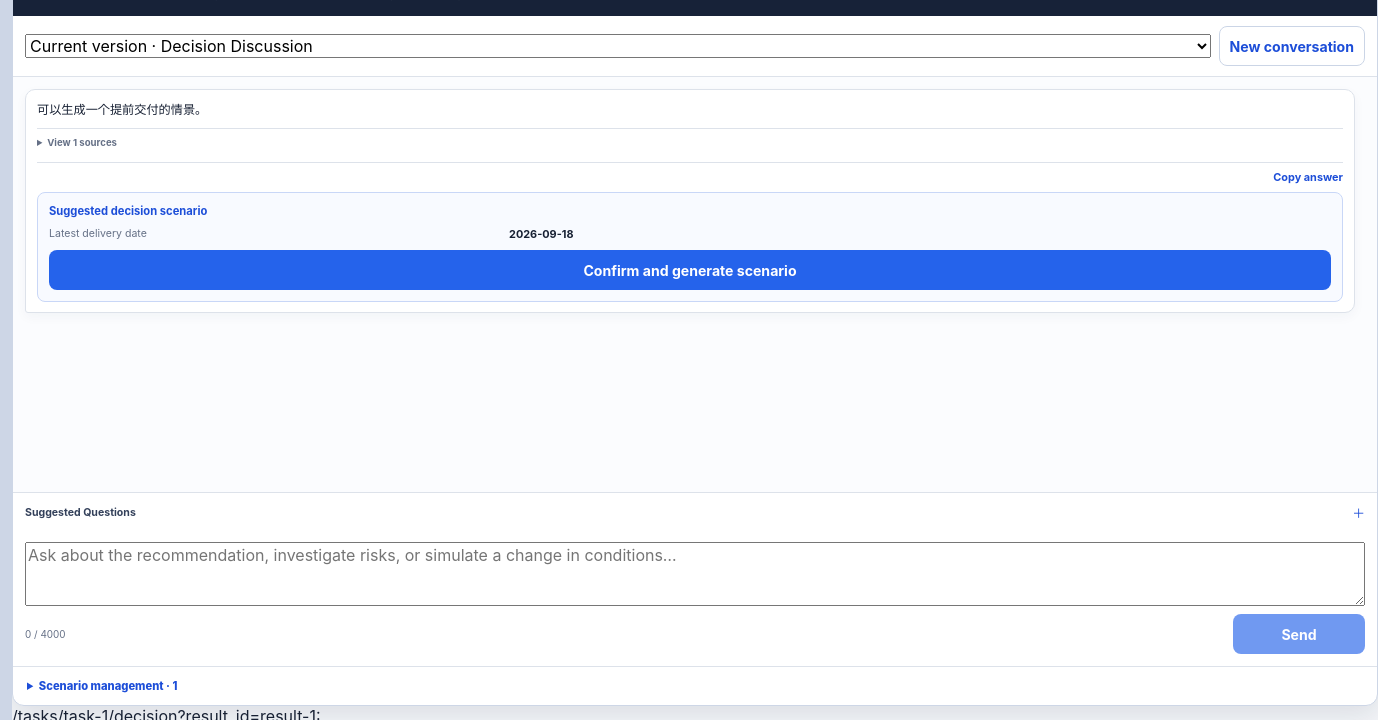
DecisionScenarioWorkspace › applying a scenario opens the latest decision route and clears the old result cache
Click the heading "Scenario management · 1".
click(108, 686)  # box [39,679,177,693]
(page scrolled)
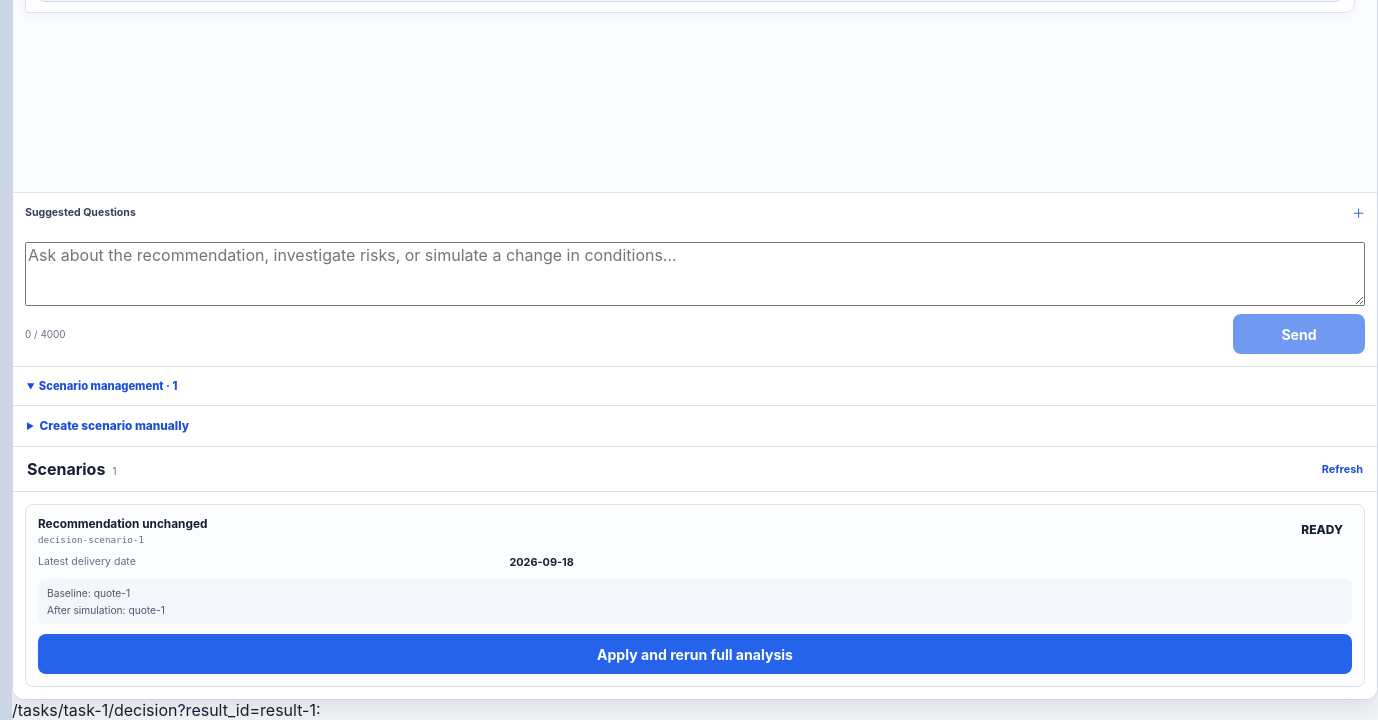
Click the button "Apply and rerun full analysis".
click(695, 654)  # box [38,634,1352,674]
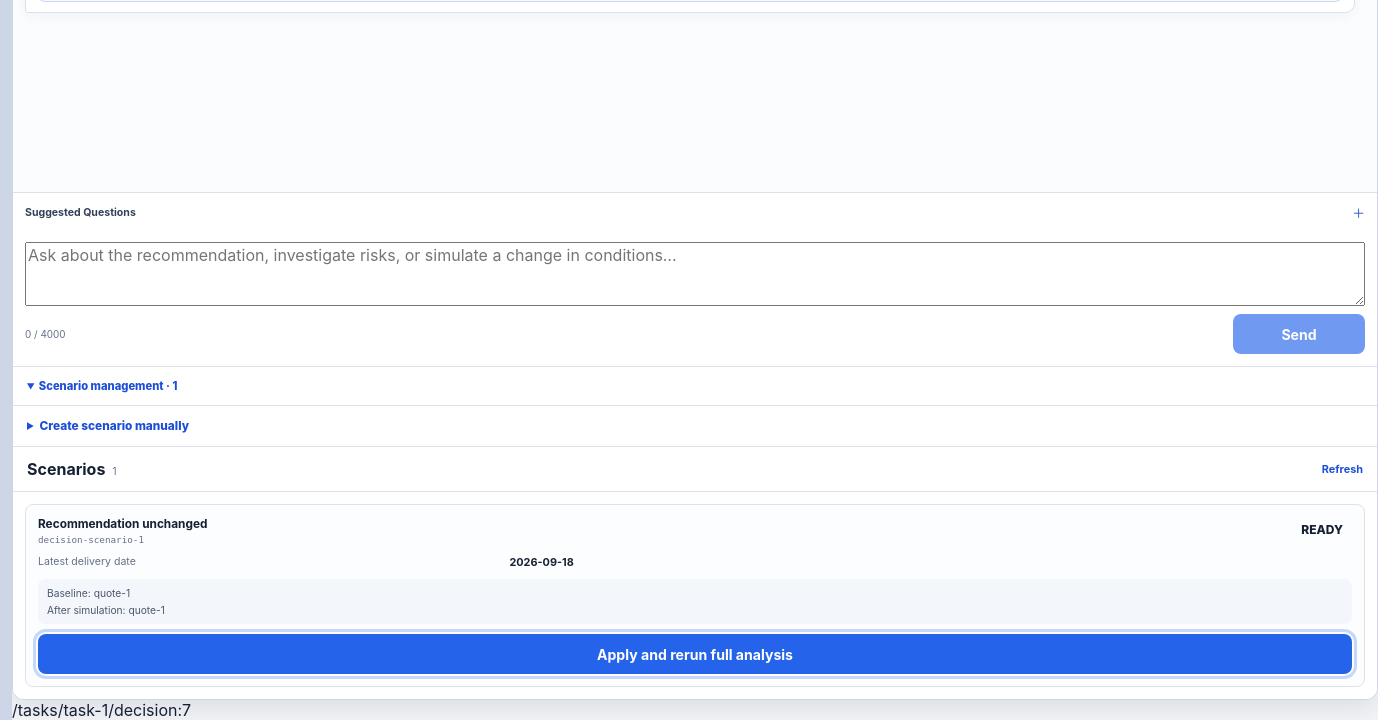
expect the text with test id "location" reads "/tasks/task-1/decision:7": met, box [12,700,191,719]
